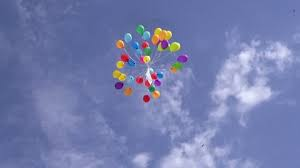Balloon: (170, 42, 180, 51), (151, 35, 159, 45), (124, 33, 132, 42), (136, 24, 144, 33), (161, 39, 168, 49), (177, 55, 187, 62), (116, 40, 124, 48), (142, 31, 150, 39), (113, 70, 121, 78), (153, 90, 160, 98), (115, 82, 123, 89), (132, 41, 139, 49), (154, 79, 162, 86), (143, 95, 150, 102), (136, 76, 143, 83), (125, 88, 131, 95), (117, 61, 124, 67), (144, 55, 149, 63), (122, 55, 128, 61)
